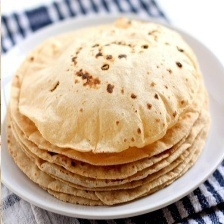roti: (5, 16, 210, 207)
